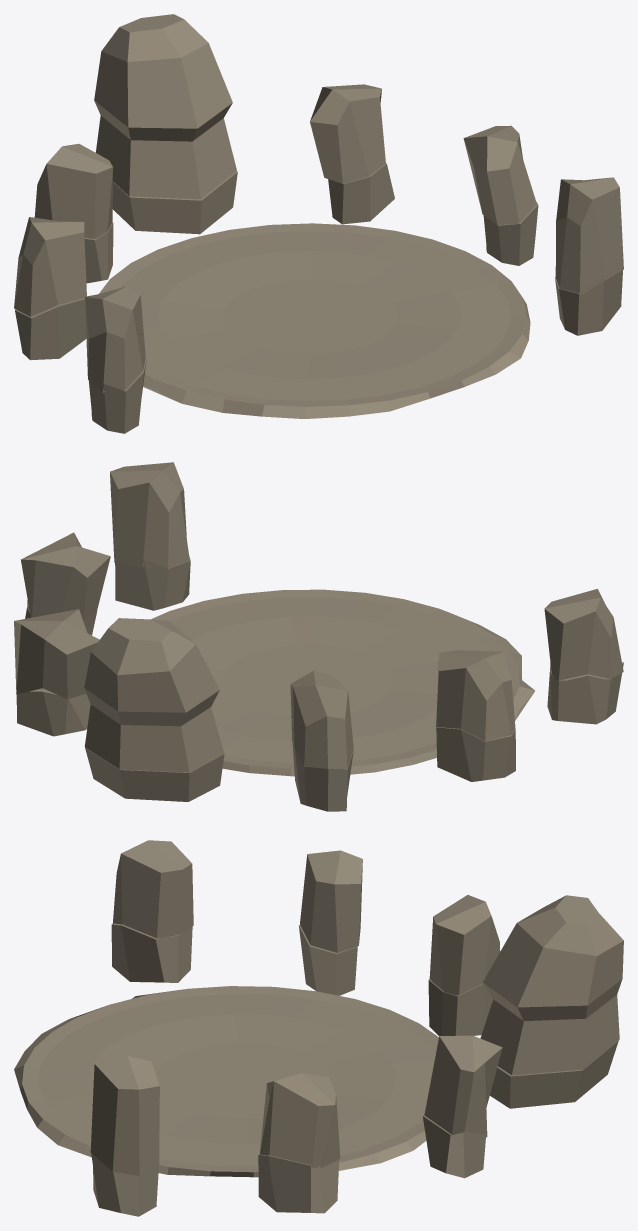
The model's file is stonehenge_version2.fbx.
The picture shows the model from 3 angles, top to bottom: view 1: azimuth 30°, elevation 25°; view 2: azimuth 150°, elevation 25°; view 3: azimuth 270°, elevation 25°; orthographic projection. The views are drawn at different scales.
Visible parts, largest first — view 1: Stonehenge.base, Stonehenge.top4, Stonehenge.top1, Stonehenge.top3, Stonehenge.top6, Stonehenge.top5, Stonehenge.top7, Stonehenge.top2, Stonehenge.bottom4, Stonehenge.bottom6, Stonehenge.bottom1, Stonehenge.bottom3 (+3 smaller); view 2: Stonehenge.base, Stonehenge.top4, Stonehenge.top1, Stonehenge.top6, Stonehenge.top3, Stonehenge.top7, Stonehenge.top2, Stonehenge.top5, Stonehenge.bottom4, Stonehenge.bottom6, Stonehenge.bottom1, Stonehenge.bottom7 (+2 smaller); view 3: Stonehenge.base, Stonehenge.top4, Stonehenge.top1, Stonehenge.top7, Stonehenge.top2, Stonehenge.top3, Stonehenge.top6, Stonehenge.top5, Stonehenge.bottom2, Stonehenge.bottom7, Stonehenge.bottom4, Stonehenge.bottom5 (+3 smaller).
Part boxes in pixels (x1,y1,x2,y2): Stonehenge.base: [99, 223, 530, 418]; Stonehenge.top4: [94, 14, 236, 199]; Stonehenge.top1: [555, 177, 623, 295]; Stonehenge.top3: [310, 84, 385, 183]; Stonehenge.top6: [14, 217, 86, 316]; Stonehenge.top5: [34, 143, 112, 238]; Stonehenge.top7: [85, 286, 145, 392]; Stonehenge.top2: [463, 125, 536, 224]; Stonehenge.bottom4: [112, 171, 237, 234]; Stonehenge.bottom6: [15, 298, 86, 360]; Stonehenge.bottom1: [555, 270, 622, 335]; Stonehenge.bottom3: [328, 163, 394, 224]; Stonehenge.base: [151, 589, 534, 776]; Stonehenge.top4: [84, 618, 223, 772]; Stonehenge.top1: [110, 462, 189, 568]; Stonehenge.top6: [436, 650, 515, 741]; Stonehenge.top3: [14, 609, 99, 699]; Stonehenge.top7: [544, 589, 623, 680]; Stonehenge.top2: [21, 532, 110, 620]; Stonehenge.top5: [290, 671, 353, 769]; Stonehenge.bottom4: [85, 747, 224, 801]; Stonehenge.bottom6: [436, 727, 515, 781]; Stonehenge.bottom1: [115, 556, 190, 610]; Stonehenge.bottom7: [547, 662, 623, 724]; Stonehenge.base: [14, 986, 438, 1177]; Stonehenge.top4: [480, 895, 623, 1075]; Stonehenge.top1: [90, 1056, 159, 1175]; Stonehenge.top7: [113, 840, 193, 938]; Stonehenge.top2: [260, 1073, 340, 1167]; Stonehenge.top3: [424, 1035, 502, 1137]; Stonehenge.top6: [300, 850, 362, 952]; Stonehenge.top5: [429, 895, 500, 995]; Stonehenge.bottom2: [258, 1154, 339, 1213]; Stonehenge.bottom7: [111, 923, 192, 982]; Stonehenge.bottom4: [490, 1041, 618, 1108]; Stonehenge.bottom5: [428, 979, 493, 1035].
Size of the model in its own units: 789 by 276 by 781.
